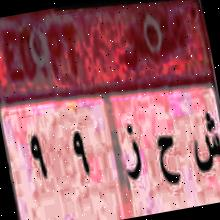7aa: (150, 124, 185, 192)
9: (65, 124, 100, 187), (23, 126, 54, 186)
sheen: (185, 103, 220, 184)
zay: (116, 121, 151, 184)
